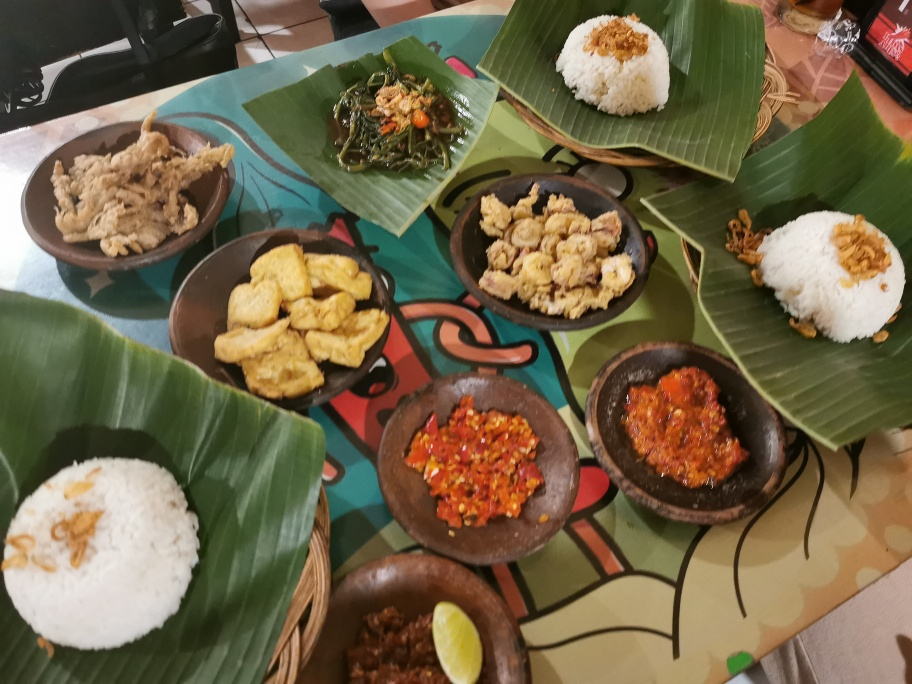nasi putih: (6, 454, 201, 652), (757, 208, 905, 344), (555, 13, 672, 112)
